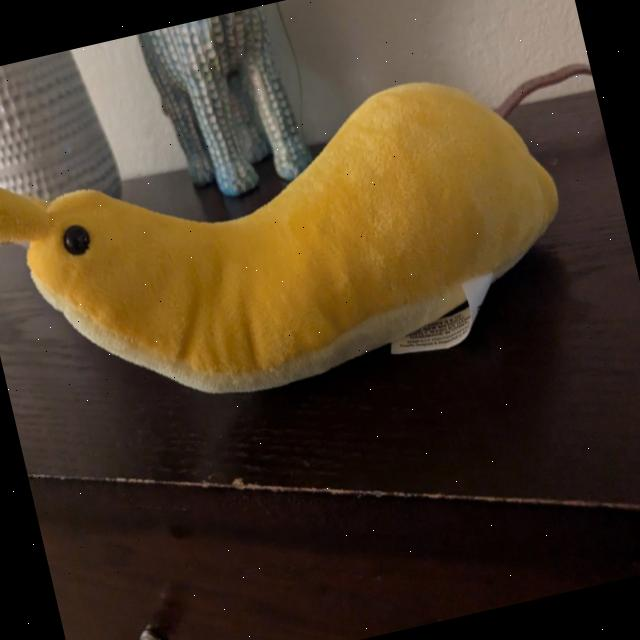banana-slug-toy: (0, 21, 615, 454)
